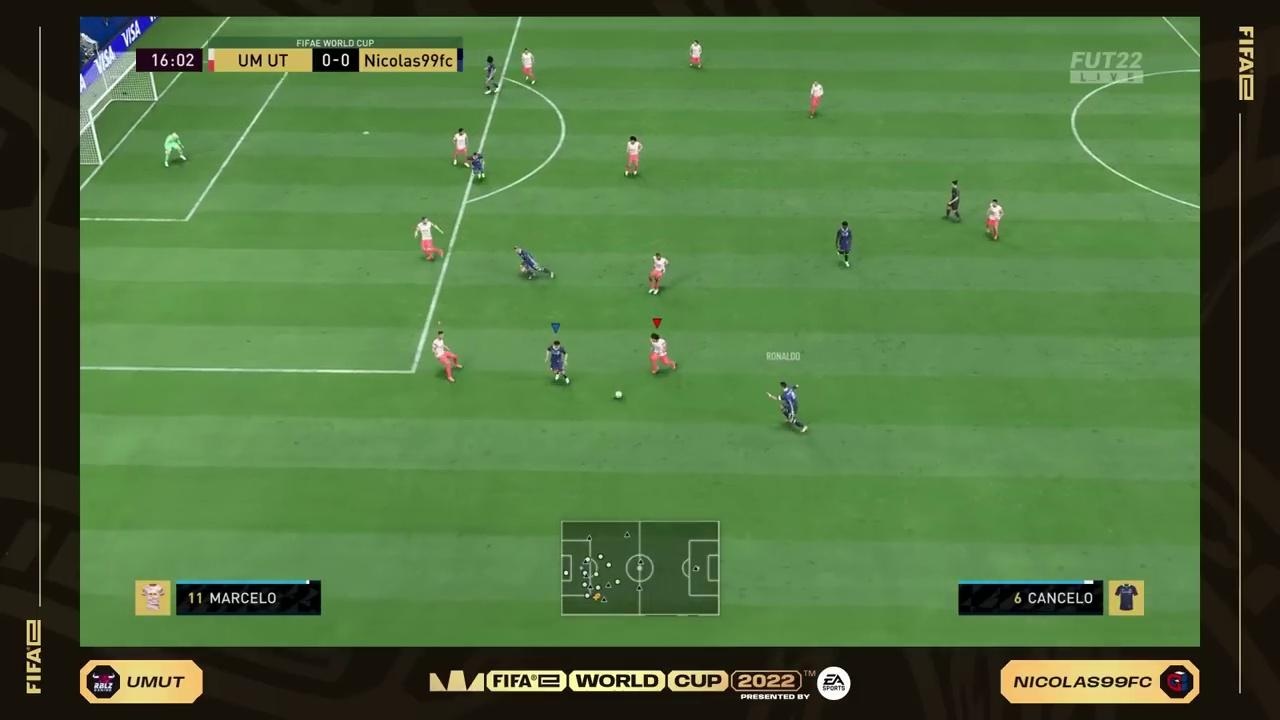scoreboard: (205, 44, 469, 73)
timestamp: (135, 47, 204, 72)
